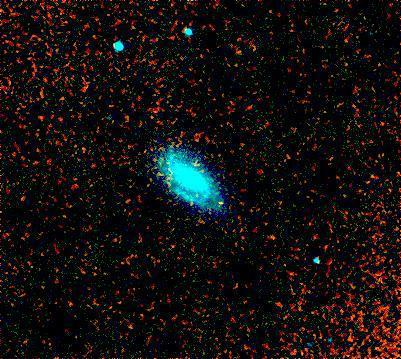star: (258, 222, 288, 252)
